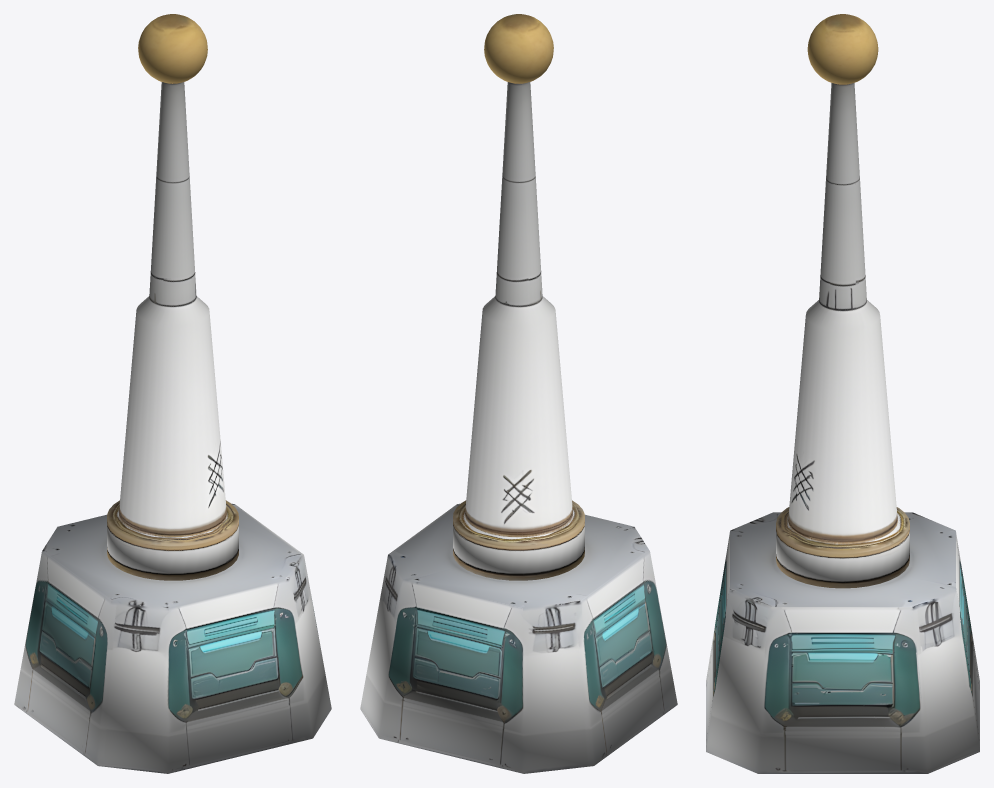
The model's file is radio.glb.
3 views of the same model, side by side, from view 1: azimuth 30°, elevation 25°; view 2: azimuth 150°, elevation 25°; view 3: azimuth 270°, elevation 25° (orthographic).
Parts seen in each view (by area): view 1: Cube.001, 柱体, 球体; view 2: Cube.001, 柱体, 球体; view 3: Cube.001, 柱体, 球体.
Part boxes in pixels (<box>): Cube.001: <box>14,503,331,773</box>; 柱体: <box>107,82,238,580</box>; 球体: <box>138,14,207,83</box>; Cube.001: <box>360,503,677,773</box>; 柱体: <box>453,82,584,580</box>; 球体: <box>484,14,553,83</box>; Cube.001: <box>706,512,979,773</box>; 柱体: <box>776,83,909,588</box>; 球体: <box>807,14,878,84</box>.
Bounding box in the file's own units: 4.08 × 11.5 × 4.08.
1 material, 1 textured.
